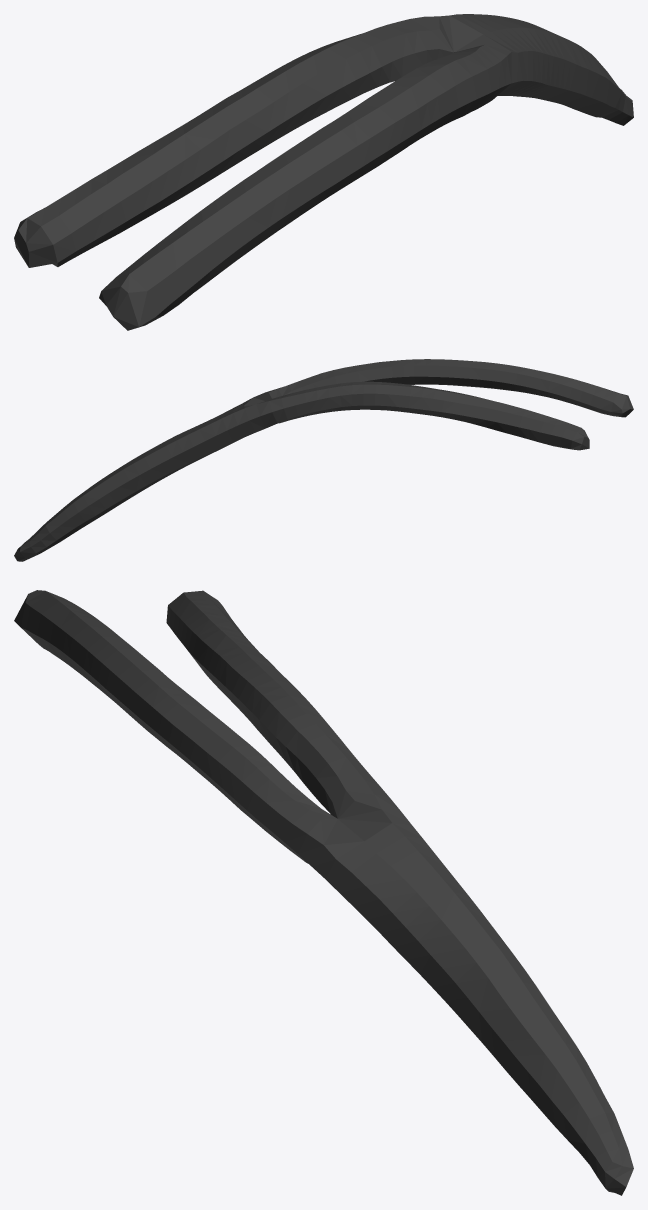
The model's file is frontalis.glb.
3 renders of one model, top to bottom at view 1: azimuth 30°, elevation 25°; view 2: azimuth 150°, elevation 25°; view 3: azimuth 270°, elevation 25°, orthographic. The views are drawn at different scales.
Visible parts, largest first — view 1: frontalis; view 2: frontalis; view 3: frontalis.
Boxes of the visible parts, <box> form: frontalis: <box>14,14,633,330</box>; frontalis: <box>14,359,633,561</box>; frontalis: <box>14,590,633,1195</box>.
Size of the model in its own units: 0.6691 by 0.2435 by 0.4785.
1 material, 1 textured.
